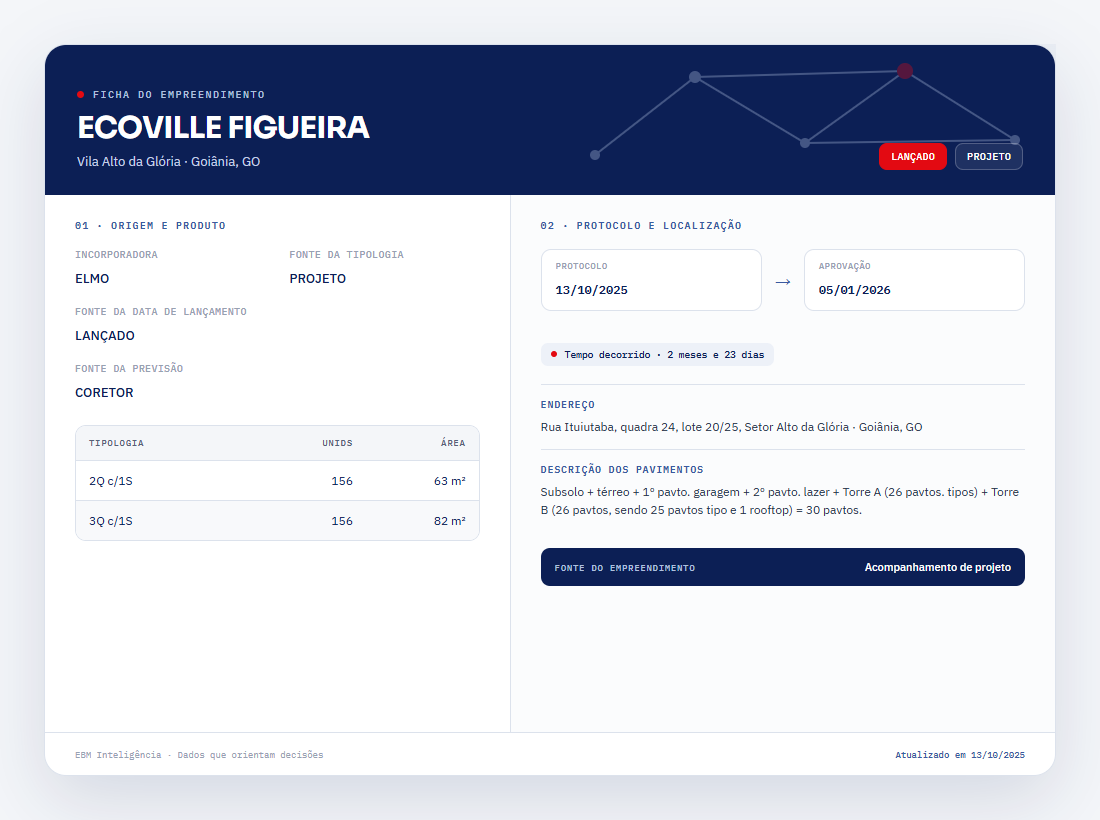

This screenshot's page, from the dashboard's own definition file:
{"tool":"powerbi","page":{"name":"Tooltip - Resumo Empreendimento","canvas":[780,720],"ordinal":1},"visuals":[{"type":"shape","box":[0,0,391.1,720],"z":1000},{"type":"shape","box":[388.9,0,391.1,720],"z":2000},{"type":"tableEx","fields":{"Values":["BD_OF_NOVO.tipologia","Max(BD_OF_NOVO.Unids_tipologia)","BD_OF_NOVO.AreaPrivativa"]},"box":[11.4,360,368.6,347.1],"z":3000},{"type":"card","title":"Endereço:","fields":{"Values":["Min(BD_OF_NOVO.Logradouro)"]},"box":[403.3,348.3,376.7,95],"z":4000},{"type":"card","title":"Descrição dos Pavimentos:","fields":{"Values":["Min(BD_OF_NOVO.descPavimentos)"]},"box":[403.3,443.3,376.7,116.7],"z":5000},{"type":"card","title":"Data do Protocolo:","fields":{"Values":["medidas.Status Protocolo"]},"box":[403.3,76.7,376.7,96.7],"z":6000},{"type":"card","title":"Data da Aprovação:","fields":{"Values":["medidas.Status Aprovacao"]},"box":[403.3,178.3,376.7,76.7],"z":7000},{"type":"card","title":"Fonte data de lançamento:","fields":{"Values":["Min(BD_OF_NOVO.FonteDataLancamento)"]},"box":[0,176.7,241.7,101.7],"z":8000},{"type":"card","title":"Fonte empreendimento","fields":{"Values":["Min(BD_OF_NOVO.FonteEmpreendimento)"]},"box":[403.3,560,376.7,91.7],"z":9000},{"type":"card","title":"Fonte Tipologia","fields":{"Values":["Min(BD_OF_NOVO.FonteTipologia)"]},"box":[240,178.3,140,100],"z":10000},{"type":"card","title":"Tempo decorrido:","fields":{"Values":["medidas.Tempo Decorrido"]},"box":[403.3,255,376.7,88.3],"z":12000},{"type":"card","title":"Incorporadora:","fields":{"Values":["Min(BD_OF_NOVO.incorporadora)"]},"box":[0,77.1,241.4,100],"z":14000},{"type":"card","title":"Fonte Previsão de Lançamento:","fields":{"Values":["Min(BD_OF_NOVO.FonteDataPrevisaoLancamento)"]},"box":[0,278.3,388.3,70],"z":15000},{"type":"card","title":"Empreendimento:","fields":{"Values":["Min(BD_OF_NOVO.empreendimento)"]},"box":[220,0,340,68.9],"z":16000}]}

Visuals, with their boxes on the page's 780x720 design canvas (x1, y1, x2, y2). These are canvas units, not pixel positions in the 1100x820 screenshot, which may show the page scaled, cropped or inside an application window:
shape: rect(0, 0, 391, 720)
shape: rect(389, 0, 780, 720)
tableEx - BD_OF_NOVO.tipologia x Max(BD_OF_NOVO.Unids_tipologia): rect(11, 360, 380, 707)
"Endereço:" card: rect(403, 348, 780, 443)
"Descrição dos Pavimentos:" card: rect(403, 443, 780, 560)
"Data do Protocolo:" card: rect(403, 77, 780, 173)
"Data da Aprovação:" card: rect(403, 178, 780, 255)
"Fonte data de lançamento:" card: rect(0, 177, 242, 278)
"Fonte empreendimento" card: rect(403, 560, 780, 652)
"Fonte Tipologia" card: rect(240, 178, 380, 278)
"Tempo decorrido:" card: rect(403, 255, 780, 343)
"Incorporadora:" card: rect(0, 77, 241, 177)
"Fonte Previsão de Lançamento:" card: rect(0, 278, 388, 348)
"Empreendimento:" card: rect(220, 0, 560, 69)
